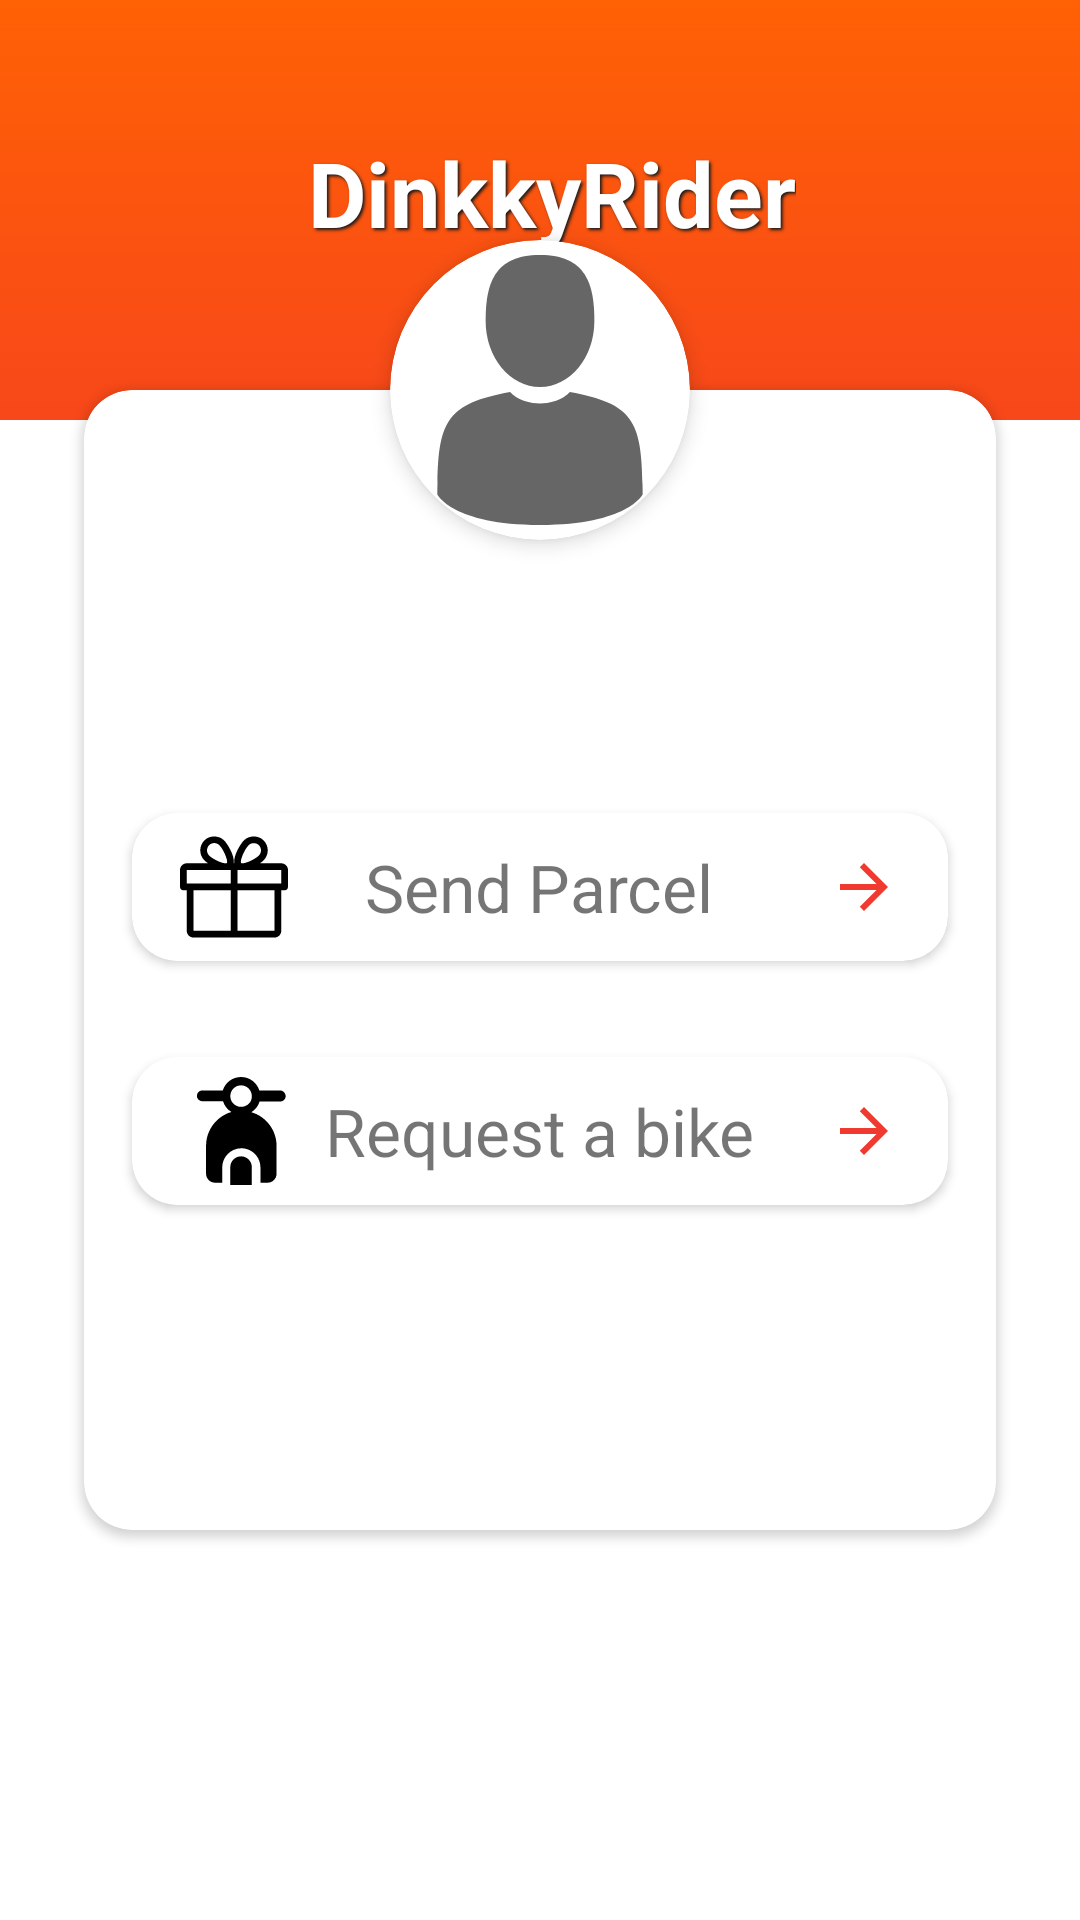

Point at icon controls on the screen. Image size 1080×1920, points as (x=x, y=y).
arrow forward: (x=864, y=887), (x=864, y=1131)
gift: (x=234, y=887)
man user: (x=540, y=390)
scooter front view: (x=241, y=1131)
